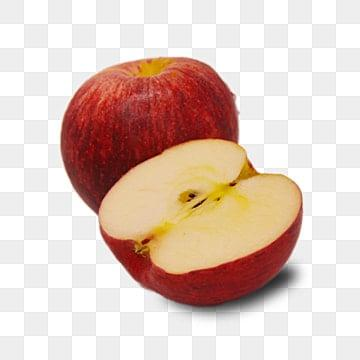apples: (59, 56, 303, 310)
